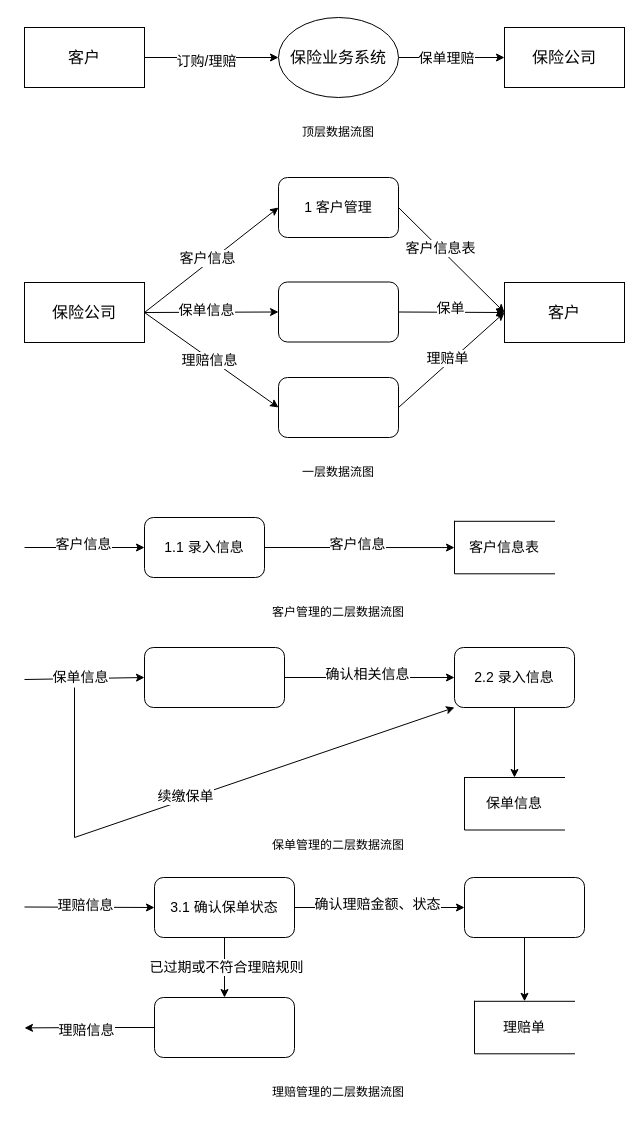
The diagram is 642 pixels wide and 1125 high, and some of its shapes have lost their labels. The centre of each missing label's shape, as x and y in pixels:
"2 保单管理" goes at pixel 338 311.
"2.1 确认保险客户" goes at pixel 214 677.
"3 理赔管理" goes at pixel 338 407.
"3.2 驳回理赔提交" goes at pixel 224 1027.
"3.3 录入信息" goes at pixel 524 907.
